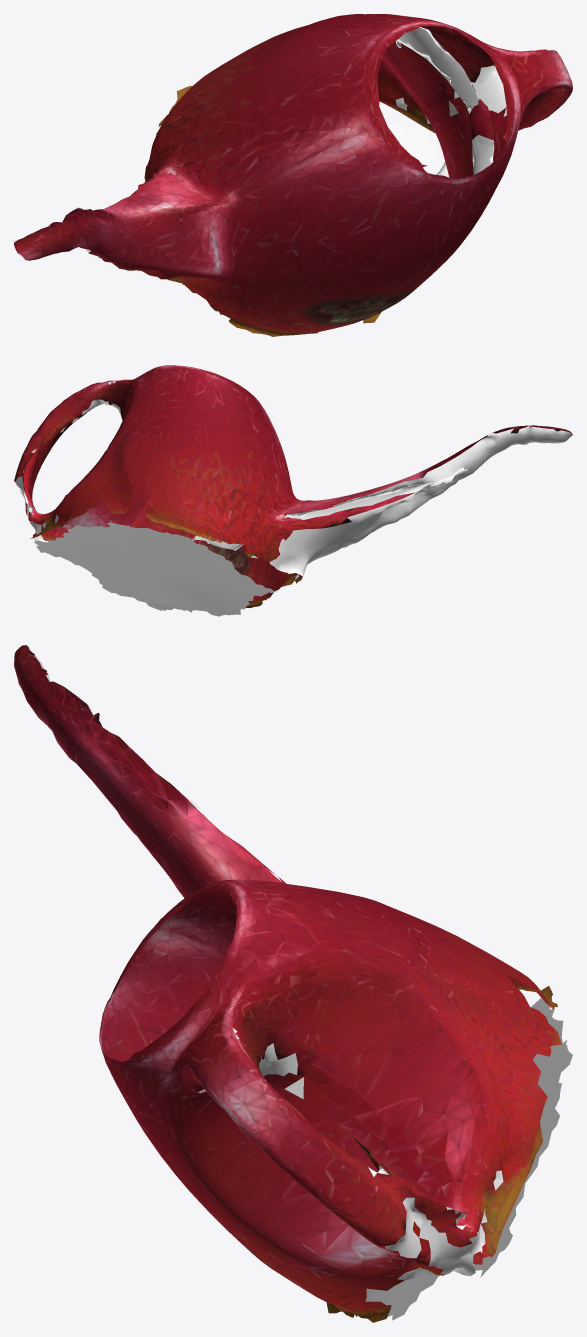
Rendered from watering-pot-2.obj.
3 views of the same model, one above another, from view 1: azimuth 30°, elevation 25°; view 2: azimuth 150°, elevation 25°; view 3: azimuth 270°, elevation 25° (orthographic). The views are drawn at different scales.
Bounding box in the file's own units: 298 × 137 × 165.
2 materials, 1 textured.
